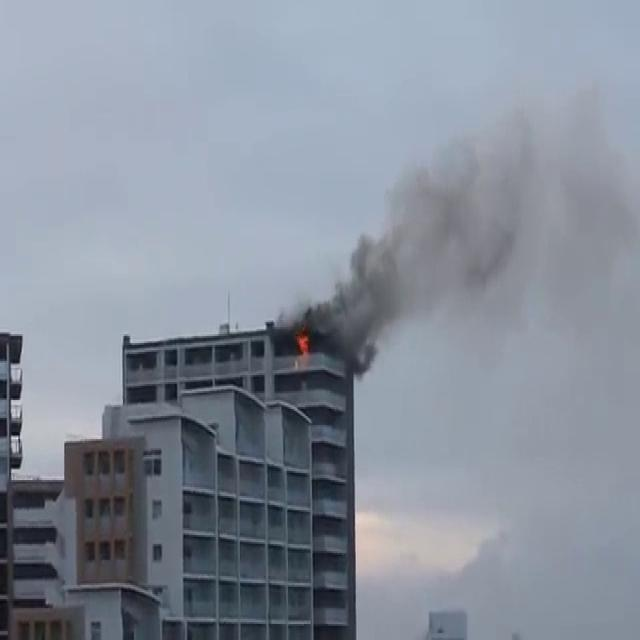Smoke: (292, 63, 640, 378)
